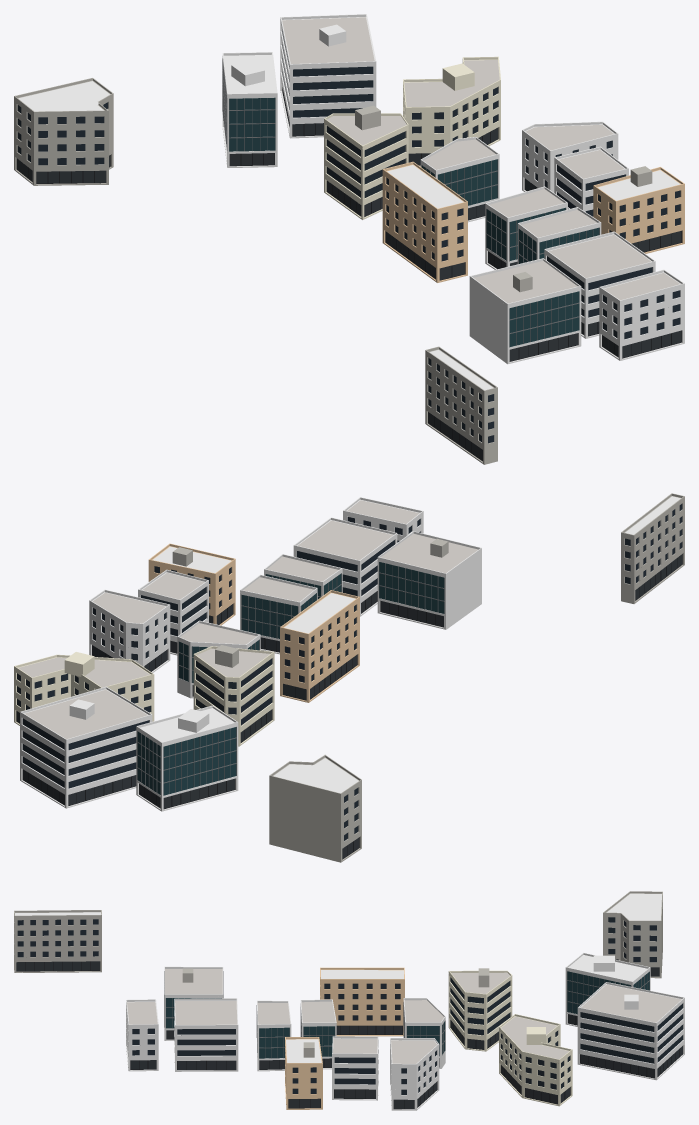
The model's file is fill_near.glb.
3 views of the same model, one above another, from view 1: azimuth 30°, elevation 25°; view 2: azimuth 150°, elevation 25°; view 3: azimuth 270°, elevation 25° (orthographic). The views are drawn at different scales.
Parts seen in each view (by area): view 1: fill_near; view 2: fill_near; view 3: fill_near.
Part boxes in pixels (x1,y1,x2,y2): fill_near: (14, 14, 684, 464); fill_near: (14, 493, 684, 862); fill_near: (14, 891, 684, 1110).
Size of the model in its own units: 98.87 by 18.9 by 172.
